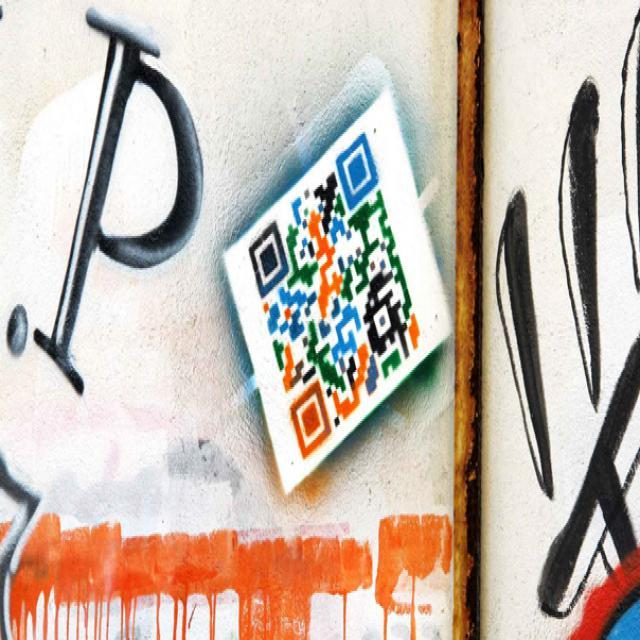qrcode: (251, 132, 422, 459)
